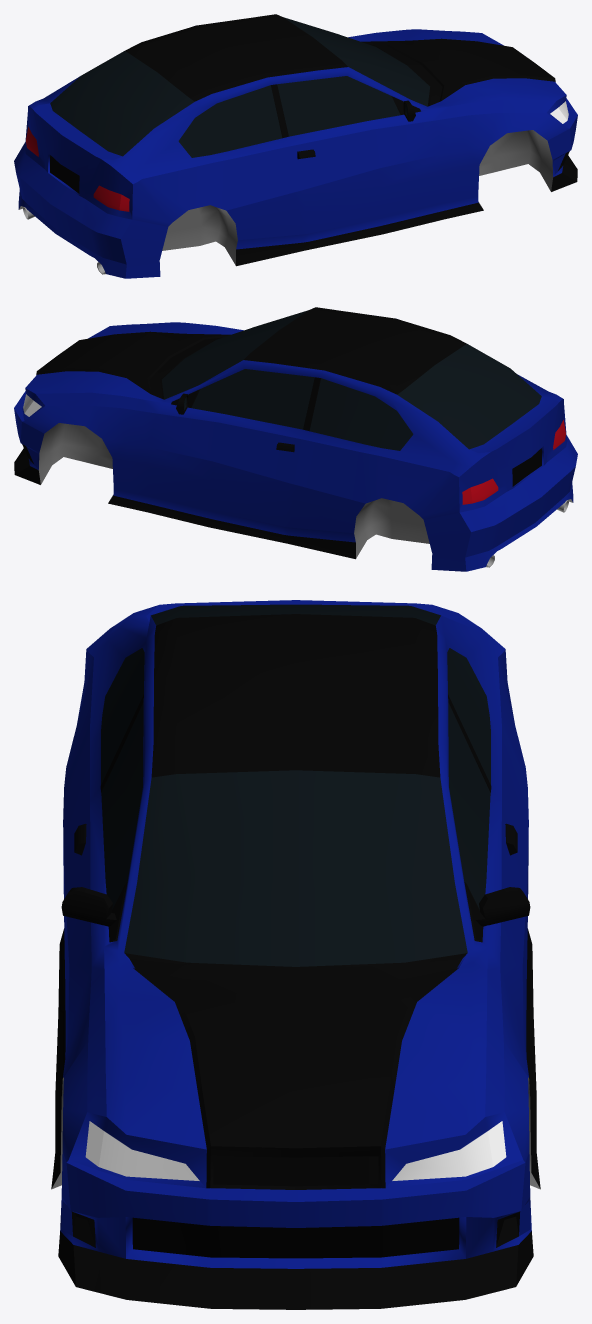
File: S64Compact_Body_2.glb
The picture shows the model from 3 angles, top to bottom: view 1: azimuth 30°, elevation 25°; view 2: azimuth 150°, elevation 25°; view 3: azimuth 270°, elevation 25°; orthographic projection. The views are drawn at different scales.
Visible parts, largest first — view 1: Cube; view 2: Cube; view 3: Cube.
Part boxes in pixels (x1=…): Cube: x1=14, y1=14, x2=577, y2=278; Cube: x1=14, y1=307, x2=577, y2=571; Cube: x1=51, y1=600, x2=540, y2=1309.
Size of the model in its own units: 3.28 by 1.04 by 1.4.
